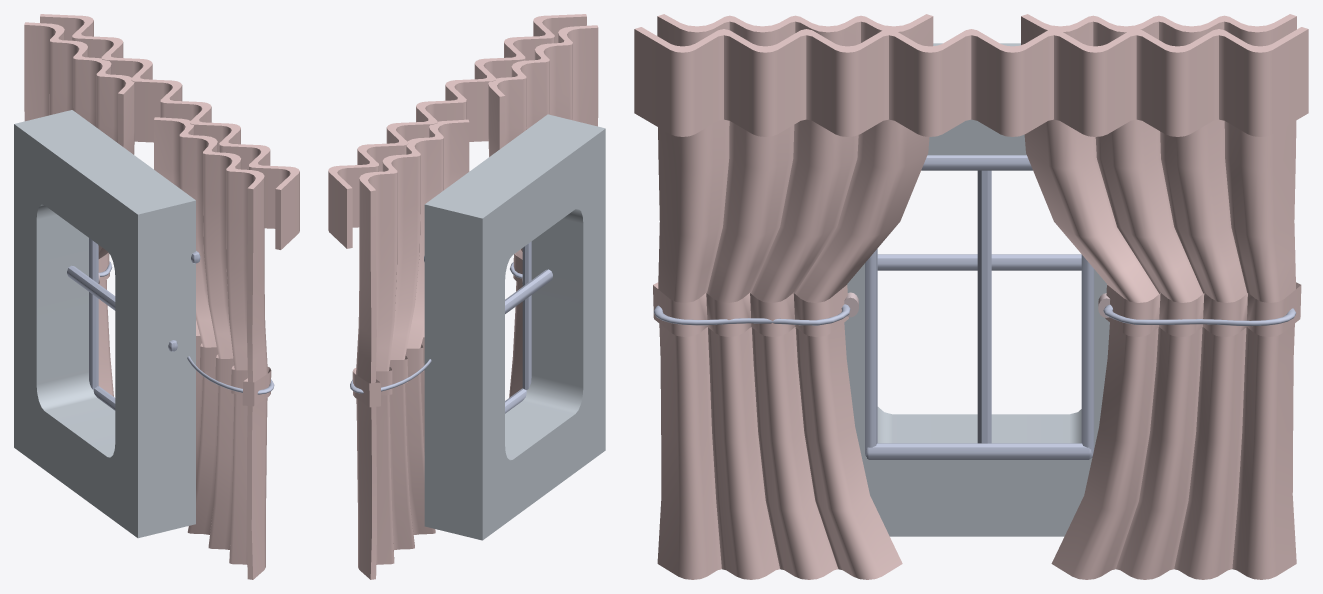
Rendered from BackGround.fbx.
The picture shows the model from 3 angles, left to right: view 1: azimuth 30°, elevation 25°; view 2: azimuth 150°, elevation 25°; view 3: azimuth 270°, elevation 25°; orthographic projection. The views are drawn at different scales.
Visible parts, largest first — view 1: pCube20, pPlane6, pPlane4, pPlane7, pCube23, pCube19, pTorus2; view 2: pCube20, pPlane4, pPlane6, pPlane7, pCube18, pCube19; view 3: pPlane6, pPlane4, pPlane7, pCube20, pCube22, pCube17, pCube19, pCube23, pCube18, pCube21, pTorus2, pTorus1.
Part boxes in pixels (box(x1,y1,x2,y2)): pCube20: box(14, 110, 195, 538); pPlane6: box(154, 117, 271, 579); pPlane4: box(24, 22, 134, 396); pPlane7: box(40, 14, 299, 249); pCube23: box(89, 238, 98, 389); pCube19: box(67, 265, 177, 351); pTorus2: box(187, 356, 274, 394); pCube20: box(424, 114, 605, 540); pPlane4: box(352, 119, 469, 579); pPlane6: box(488, 25, 598, 397); pPlane7: box(328, 14, 586, 248); pCube18: box(522, 241, 531, 390); pCube19: box(505, 269, 552, 313); pPlane6: box(653, 14, 933, 579); pPlane4: box(1021, 14, 1301, 579); pPlane7: box(634, 27, 1308, 136); pCube20: box(844, 43, 1109, 536); pCube22: box(977, 170, 991, 443); pCube17: box(866, 443, 1091, 459); pCube19: box(877, 254, 1081, 270); pCube23: box(1081, 254, 1094, 457); pCube18: box(865, 248, 877, 456); pCube21: box(921, 155, 1032, 170); pTorus2: box(653, 304, 850, 325); pTorus1: box(1103, 304, 1296, 325).
Bounding box in the file's own units: 4.33 × 13.94 × 15.53.
